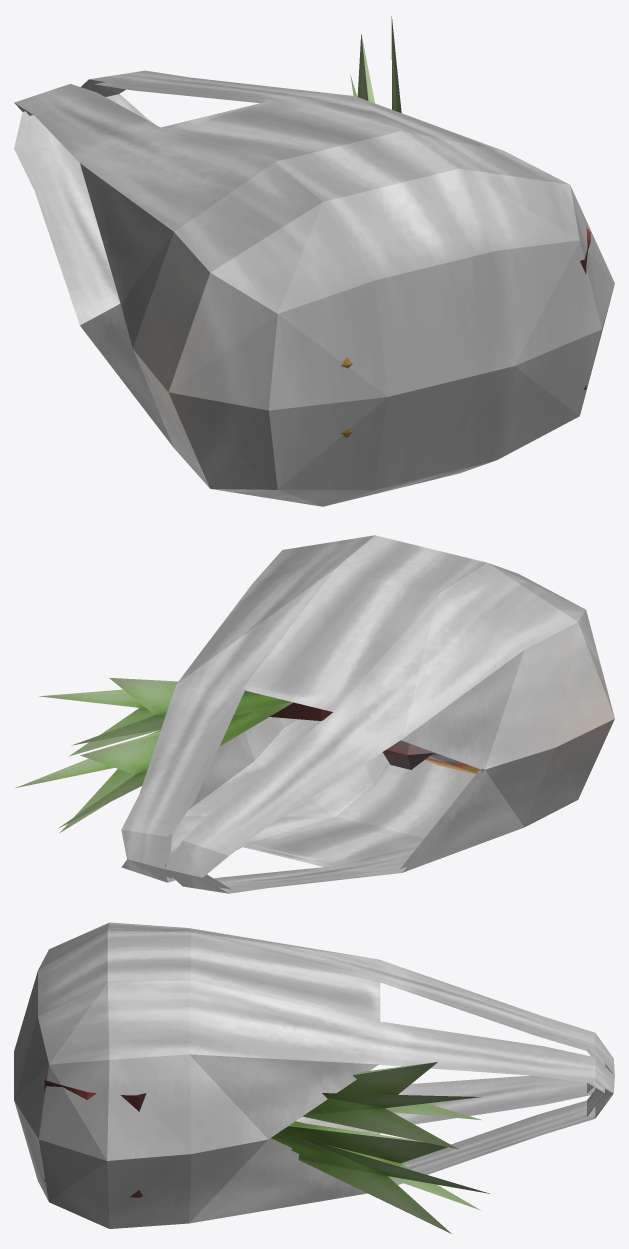
File: Wolf_groceryBag.obj
3 renders of one model, top to bottom at view 1: azimuth 30°, elevation 25°; view 2: azimuth 150°, elevation 25°; view 3: azimuth 270°, elevation 25°, orthographic. The views are drawn at different scales.
Parts seen in each view (by area): view 1: Wolf_groceryBag_tri; view 2: Wolf_groceryBag_tri; view 3: Wolf_groceryBag_tri.
Boxes of the visible parts, <box> form: Wolf_groceryBag_tri: <box>14,16,614,506</box>; Wolf_groceryBag_tri: <box>15,535,614,893</box>; Wolf_groceryBag_tri: <box>14,922,614,1233</box>.
Bounding box in the file's own units: 0.3179 × 0.1908 × 0.4356.
Materials: 1 (1 with a texture image).
